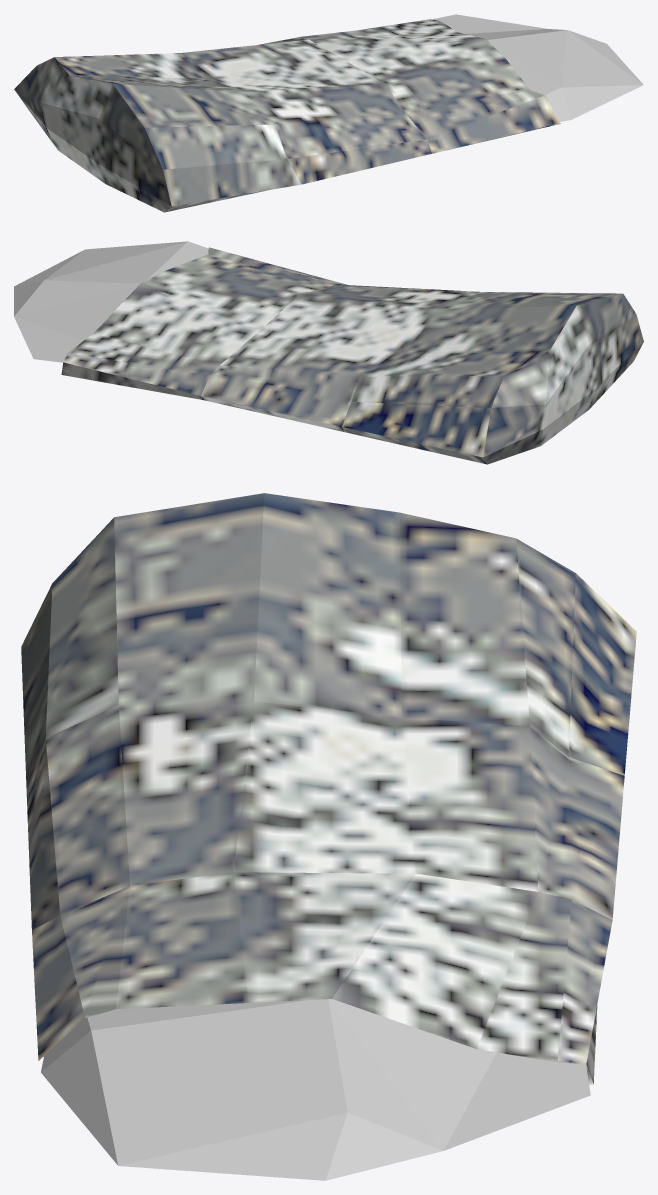
Rendered from basura5.fbx.
3 views of the same model, one above another, from view 1: azimuth 30°, elevation 25°; view 2: azimuth 150°, elevation 25°; view 3: azimuth 270°, elevation 25° (orthographic). The views are drawn at different scales.
Visible parts, largest first — view 1: trashbag_3_white; view 2: trashbag_3_white; view 3: trashbag_3_white.
Boxes of the visible parts, x1,y1,x2,y2 form: trashbag_3_white: (14,14,643,212); trashbag_3_white: (14,241,643,464); trashbag_3_white: (21,493,636,1180).
Size of the model in its own units: 173 by 31.75 by 86.94.
